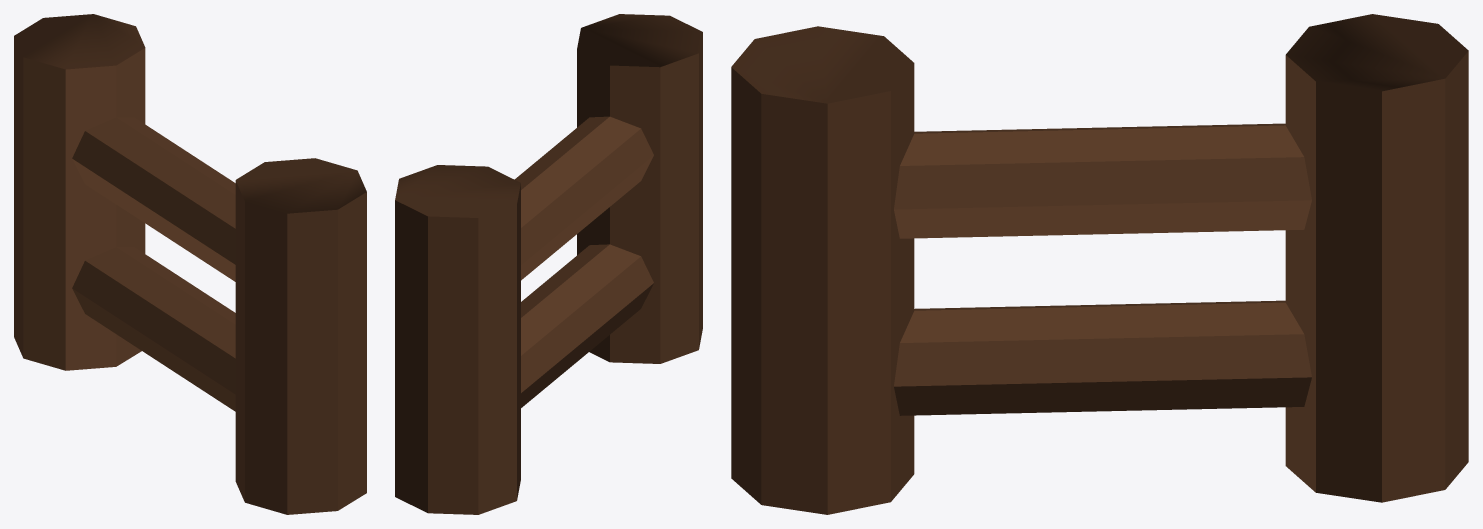
The model's file is WOOD FENCE 2.fbx.
The picture shows the model from 3 angles, left to right: view 1: azimuth 30°, elevation 25°; view 2: azimuth 150°, elevation 25°; view 3: azimuth 270°, elevation 25°; orthographic projection. The views are drawn at different scales.
Parts seen in each view (by area): view 1: WOOD_FENCE_2; view 2: WOOD_FENCE_2; view 3: WOOD_FENCE_2.
Boxes of the visible parts, x1,y1,x2,y2 form: WOOD_FENCE_2: (14, 14, 366, 514); WOOD_FENCE_2: (395, 14, 702, 514); WOOD_FENCE_2: (731, 14, 1468, 514).
Bounding box in the file's own units: 60.7 × 130 × 211.
Materials: 1 (1 with a texture image).
